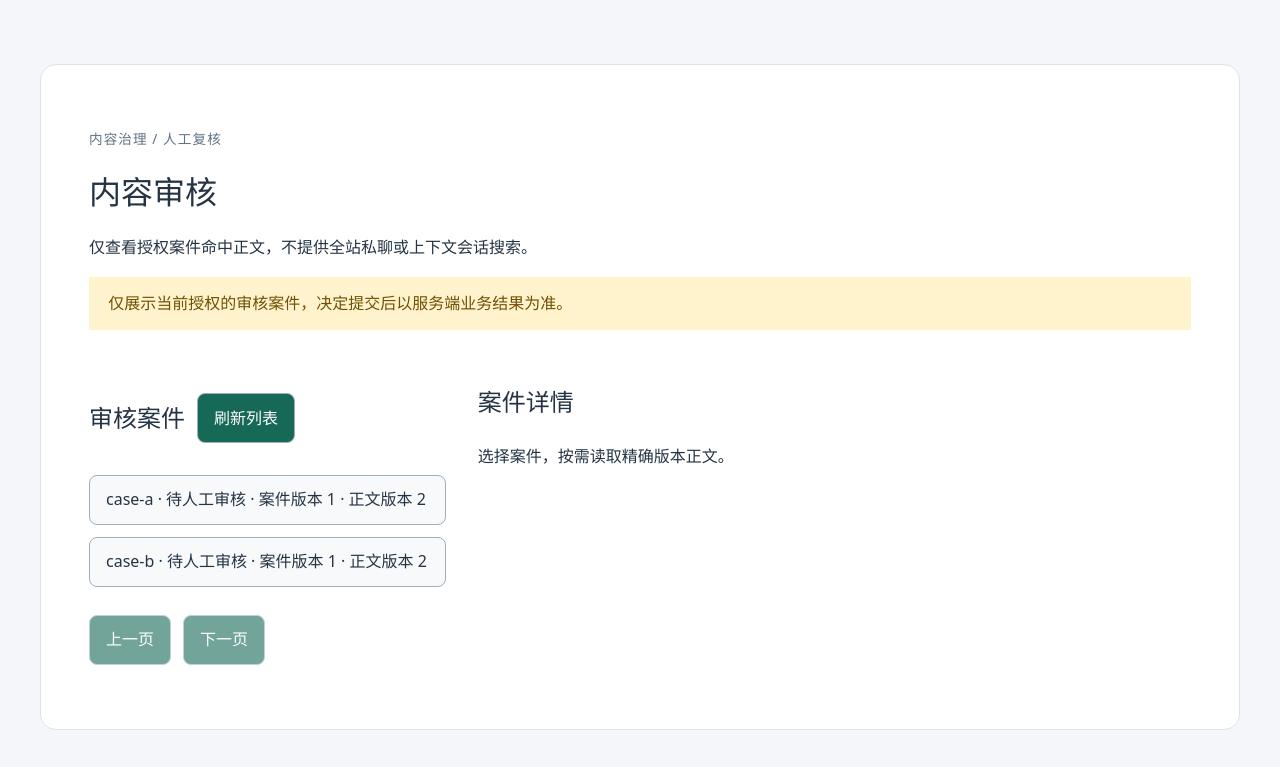
Scenario: T017 真实内容审核页面交互 › 列表不加载正文，案件详情展示精确正文版本及涉校未经证实提示
This screenshot has width=1280, height=767.
Expected: the text "合成涉校命中正文" is not shown
Step 1. Click the button "case-a · 待人工审核 · 案件版本 1 · 正文版本 2" → (267, 500), box [89,475,446,525]
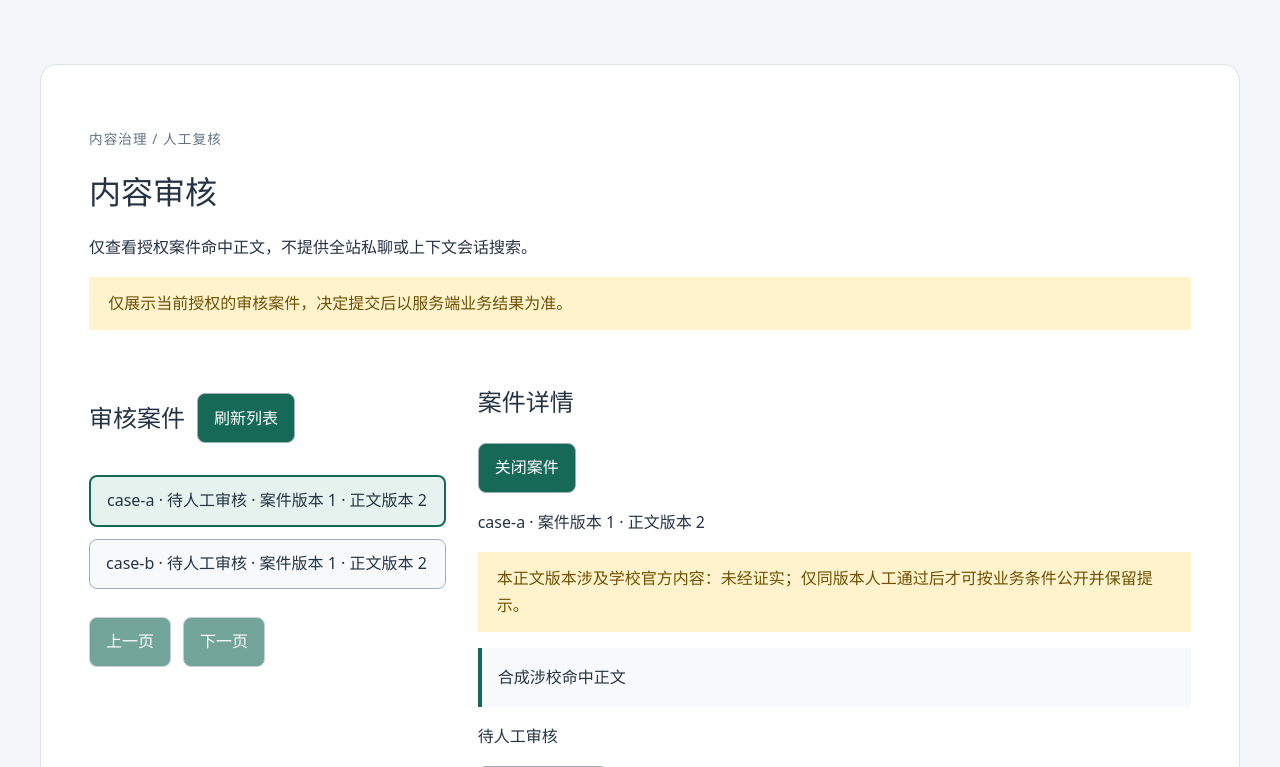
Expected: the text "正文版本 2" is shown, [341,489,427,511]
Expected: the text "合成涉校命中正文" is shown, [478,648,1191,707]
Expected: the text "未经证实" is shown, [497,567,1153,616]
Step 2. Click the button "case-b · 待人工审核 · 案件版本 1 · 正文版本 2" → (267, 564), box [89,539,446,589]
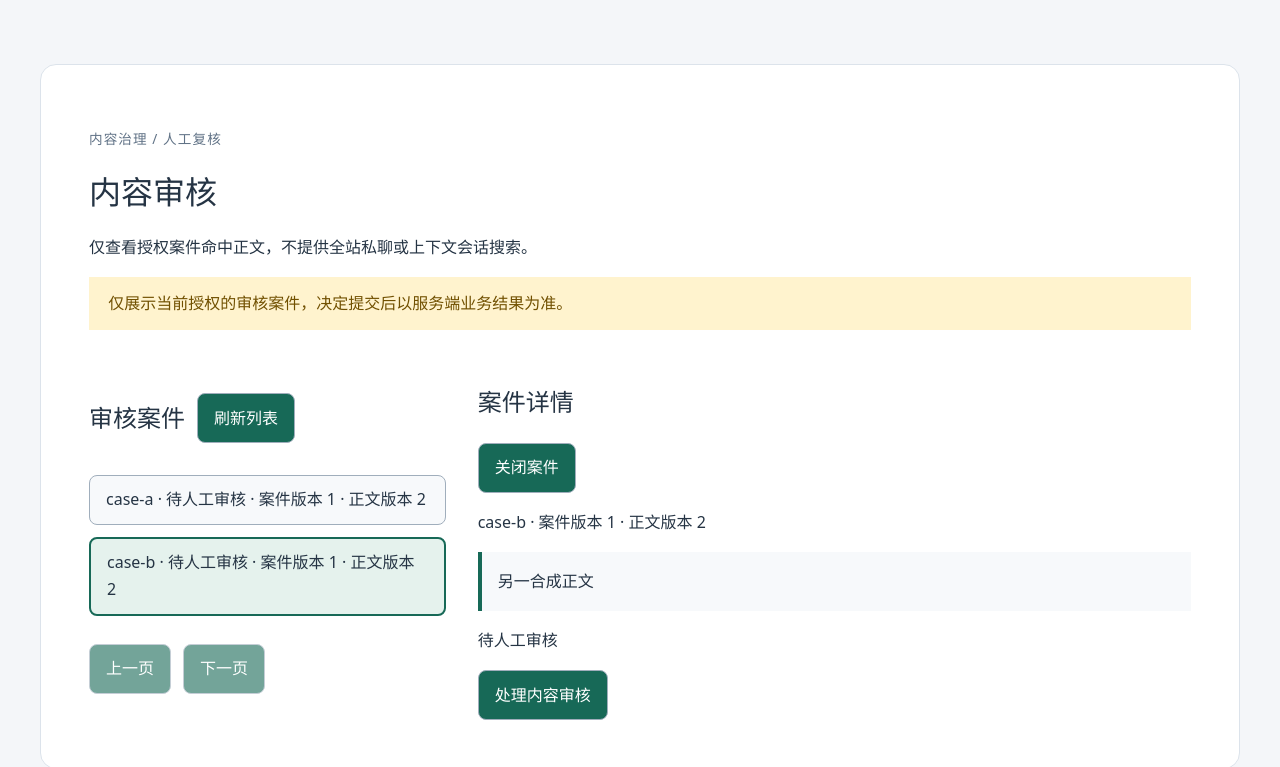
Expected: the text "本正文版本涉及学校官方内容" is gone
